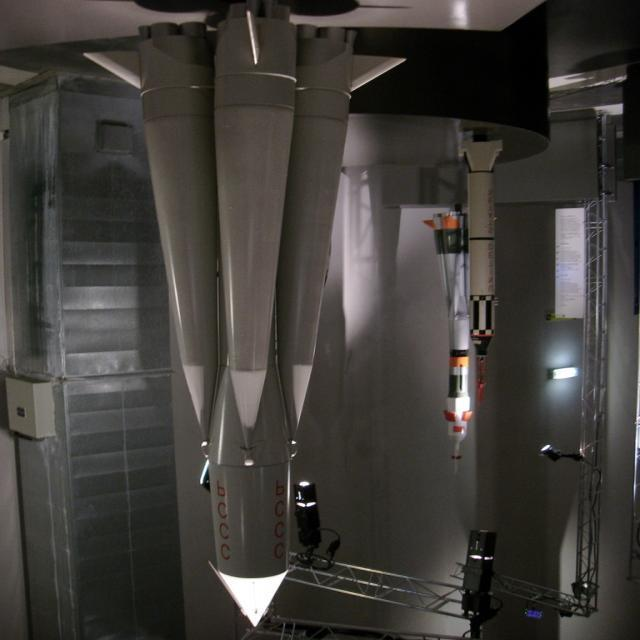missile: (204, 416, 298, 632), (430, 215, 472, 474), (463, 140, 499, 404)
